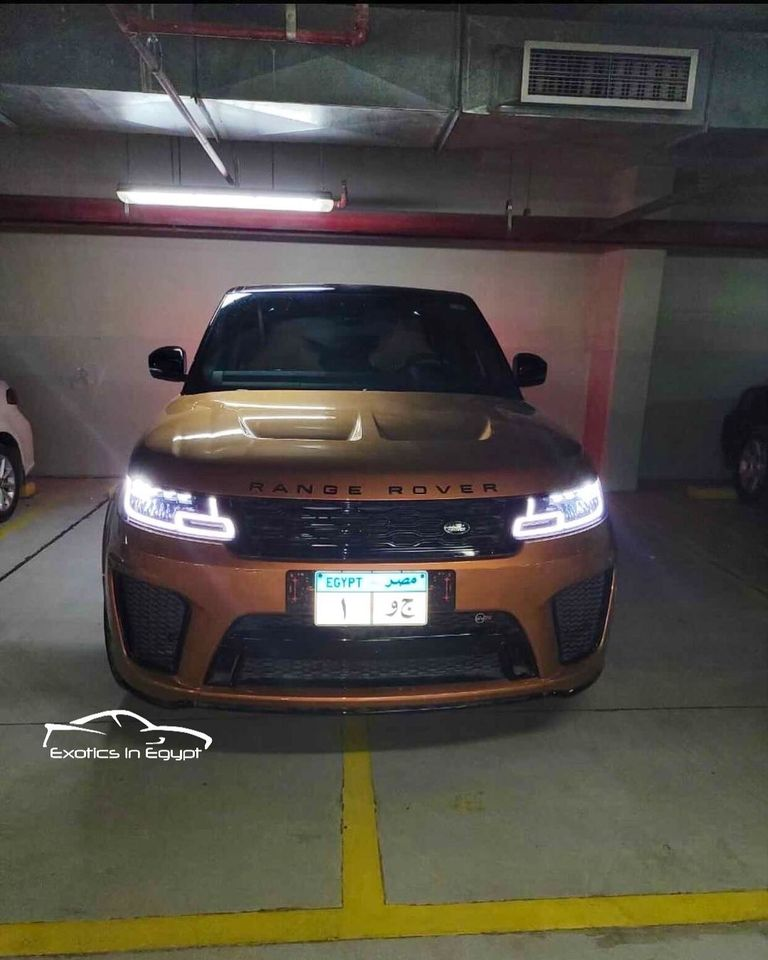carpl: (309, 580, 428, 627)
